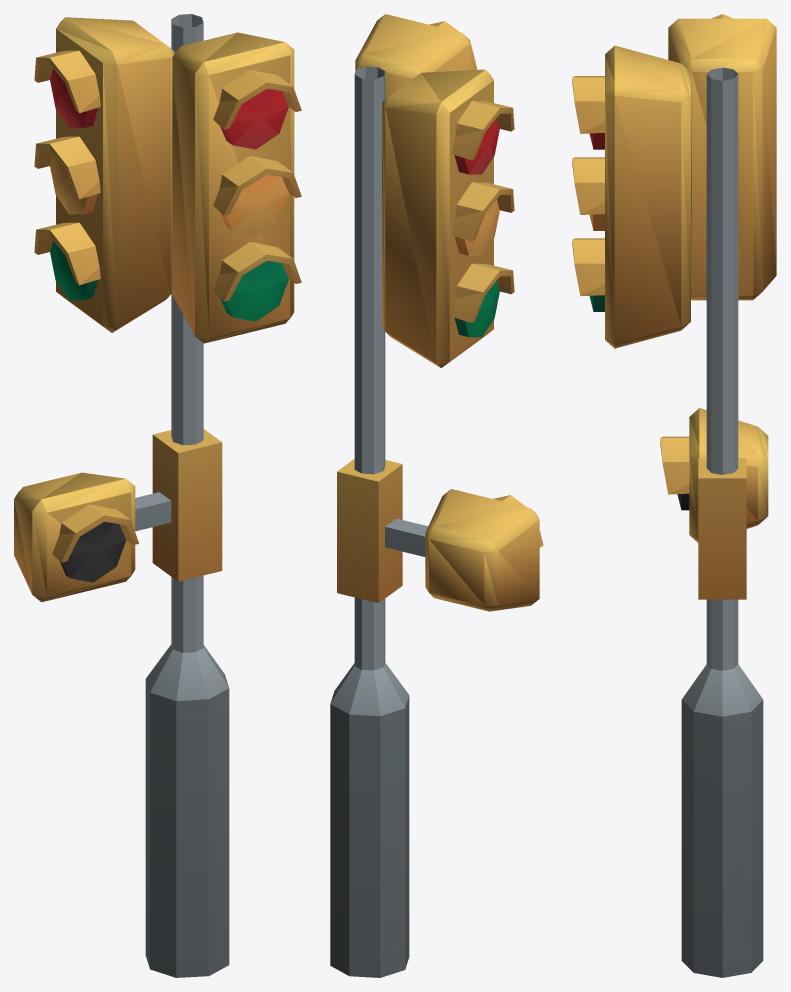
Rendered from kyc_trafficlight_a.fbx.
The picture shows the model from 3 angles, left to right: view 1: azimuth 30°, elevation 25°; view 2: azimuth 150°, elevation 25°; view 3: azimuth 270°, elevation 25°; orthographic projection. The views are drawn at different scales.
Parts seen in each view (by area): view 1: kyc_trafficlight_a_LOD0; view 2: kyc_trafficlight_a_LOD0; view 3: kyc_trafficlight_a_LOD0.
Boxes of the visible parts, <box> form: kyc_trafficlight_a_LOD0: <box>14,14,301,977</box>; kyc_trafficlight_a_LOD0: <box>330,14,543,977</box>; kyc_trafficlight_a_LOD0: <box>572,14,776,977</box>.
Size of what is drawn, in the model's own units: 1.05 by 4.4 by 0.9082.
